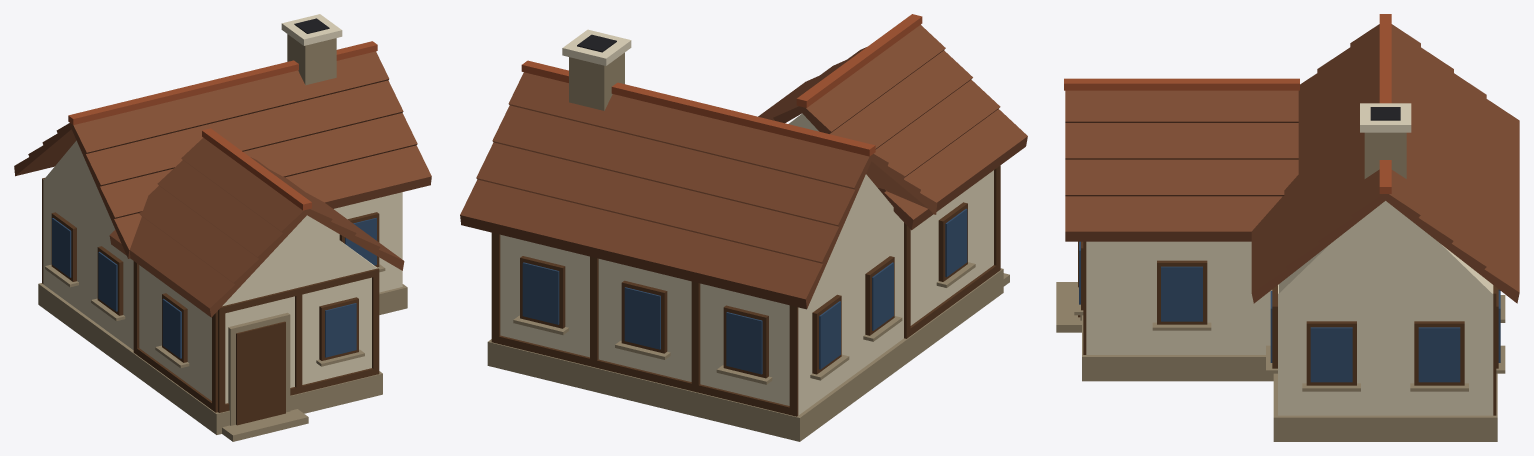
The model's file is House_05_LShaped.fbx.
3 renders of one model, left to right at view 1: azimuth 30°, elevation 25°; view 2: azimuth 150°, elevation 25°; view 3: azimuth 270°, elevation 25°, orthographic. The views are drawn at different scales.
Visible parts, largest first — view 1: House_05_LShaped; view 2: House_05_LShaped; view 3: House_05_LShaped.
Part boxes in pixels (left/top/right/bottom): House_05_LShaped: left=14, top=14, right=431, bottom=441; House_05_LShaped: left=460, top=14, right=1027, bottom=441; House_05_LShaped: left=1056, top=14, right=1519, bottom=441.
Bounding box in the file's own units: 6.84 × 5.56 × 7.74.
